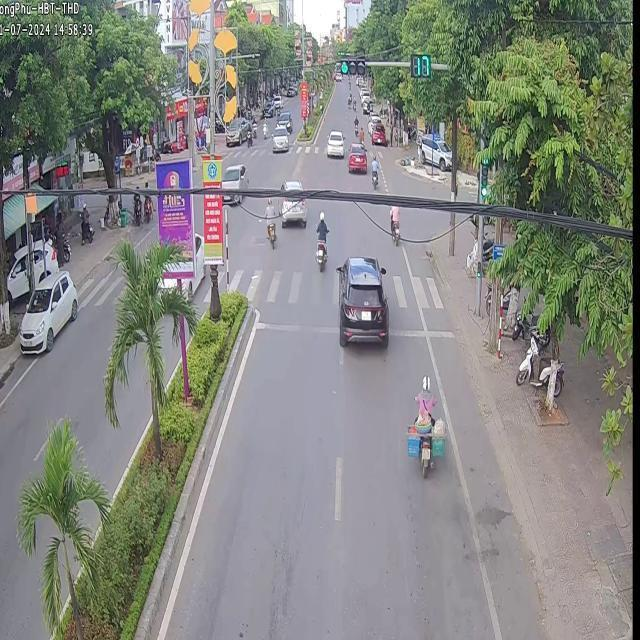car: (337, 256, 388, 345), (279, 196, 306, 225), (220, 162, 247, 187), (347, 142, 366, 170), (270, 125, 287, 151), (326, 129, 342, 156), (388, 202, 398, 242), (279, 178, 300, 189), (222, 194, 240, 200)
green_light: (338, 56, 364, 74), (479, 160, 487, 196)
motobike: (406, 374, 443, 476), (314, 209, 327, 269)
stop_line: (386, 326, 455, 338), (256, 322, 336, 331)
